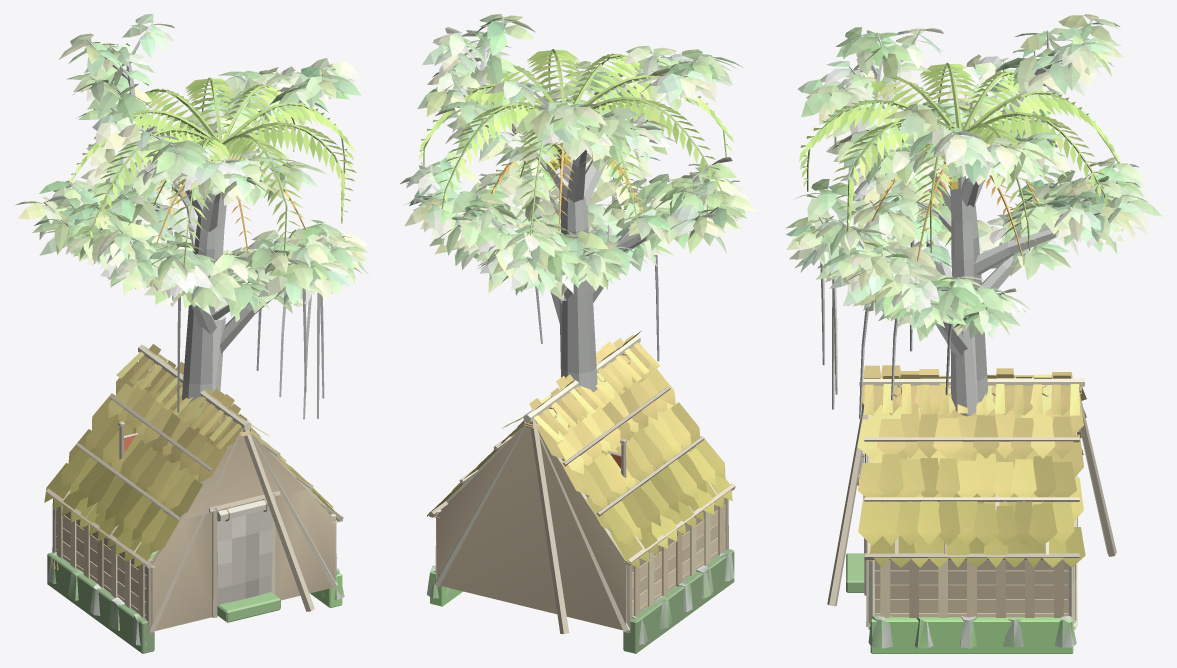
The model's file is kit.glb.
The picture shows the model from 3 angles, left to right: view 1: azimuth 30°, elevation 25°; view 2: azimuth 150°, elevation 25°; view 3: azimuth 270°, elevation 25°; orthographic projection. The views are drawn at different scales.
Visible parts, largest first — view 1: jungle_tree_b__broad_leaf, trailkeepers_tent__palm_thatch, trailkeepers_tent__woven_mat, jungle_tree_a__broad_leaf, jungle_palm__palm_frond, trailkeepers_tent__jungle_hardwood, jungle_tree_b__jungle_bark, trailkeepers_tent__watch_stone, trailkeepers_tent__canvas_flap, jungle_tree_a__jungle_bark, jungle_palm__jungle_bark; view 2: jungle_tree_b__broad_leaf, trailkeepers_tent__woven_mat, trailkeepers_tent__palm_thatch, jungle_tree_a__broad_leaf, jungle_palm__palm_frond, jungle_tree_b__jungle_bark, trailkeepers_tent__jungle_hardwood, trailkeepers_tent__watch_stone, jungle_tree_a__jungle_bark; view 3: jungle_tree_b__broad_leaf, trailkeepers_tent__palm_thatch, jungle_tree_a__broad_leaf, jungle_palm__palm_frond, trailkeepers_tent__woven_mat, trailkeepers_tent__jungle_hardwood, trailkeepers_tent__watch_stone, jungle_tree_b__jungle_bark, jungle_tree_a__jungle_bark, jungle_palm__jungle_bark.
Boxes of the visible parts, x1=… form: jungle_tree_b__broad_leaf: x1=15, y1=14, x2=367, y2=305; trailkeepers_tent__palm_thatch: x1=44, y1=344, x2=337, y2=567; trailkeepers_tent__woven_mat: x1=55, y1=429, x2=336, y2=630; jungle_tree_a__broad_leaf: x1=67, y1=128, x2=369, y2=321; jungle_palm__palm_frond: x1=70, y1=77, x2=356, y2=267; trailkeepers_tent__jungle_hardwood: x1=46, y1=344, x2=343, y2=633; jungle_tree_b__jungle_bark: x1=43, y1=21, x2=340, y2=516; trailkeepers_tent__watch_stone: x1=47, y1=552, x2=344, y2=653; trailkeepers_tent__canvas_flap: x1=217, y1=500, x2=272, y2=605; jungle_tree_a__jungle_bark: x1=92, y1=181, x2=332, y2=392; jungle_palm__jungle_bark: x1=211, y1=156, x2=231, y2=261; jungle_tree_b__broad_leaf: x1=400, y1=14, x2=756, y2=261; trailkeepers_tent__woven_mat: x1=436, y1=422, x2=725, y2=630; trailkeepers_tent__palm_thatch: x1=427, y1=330, x2=732, y2=568; jungle_tree_a__broad_leaf: x1=435, y1=152, x2=749, y2=300; jungle_palm__palm_frond: x1=418, y1=49, x2=733, y2=239; jungle_tree_b__jungle_bark: x1=430, y1=16, x2=718, y2=460; trailkeepers_tent__jungle_hardwood: x1=428, y1=335, x2=735, y2=633; trailkeepers_tent__watch_stone: x1=427, y1=549, x2=734, y2=653; jungle_tree_a__jungle_bark: x1=477, y1=164, x2=711, y2=377; jungle_tree_b__broad_leaf: x1=786, y1=14, x2=1162, y2=319; trailkeepers_tent__palm_thatch: x1=857, y1=365, x2=1086, y2=567; jungle_tree_a__broad_leaf: x1=815, y1=115, x2=1146, y2=341; jungle_palm__palm_frond: x1=799, y1=62, x2=1122, y2=261; trailkeepers_tent__woven_mat: x1=867, y1=415, x2=1076, y2=621; trailkeepers_tent__jungle_hardwood: x1=827, y1=378, x2=1116, y2=629; trailkeepers_tent__watch_stone: x1=846, y1=553, x2=1076, y2=653; jungle_tree_b__jungle_bark: x1=818, y1=18, x2=1129, y2=418; jungle_tree_a__jungle_bark: x1=839, y1=117, x2=1117, y2=416; jungle_palm__jungle_bark: x1=950, y1=176, x2=973, y2=286.
Size of the model in its own units: 6.64 by 10.82 by 6.53.
